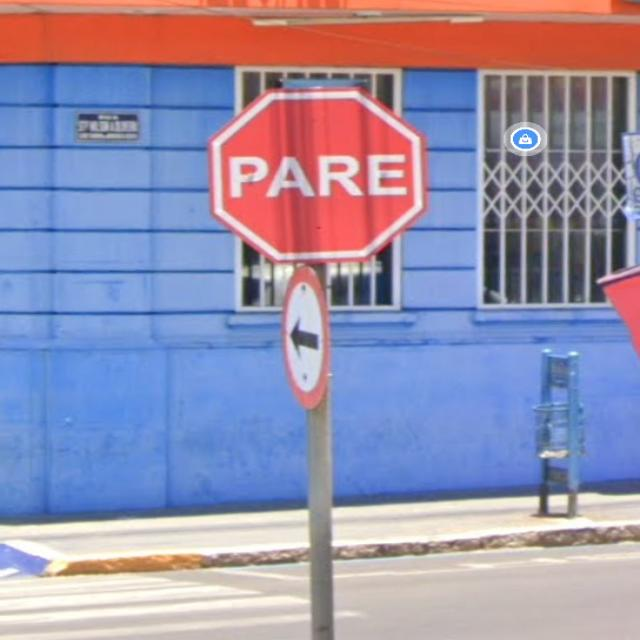stop: (190, 77, 454, 265)
